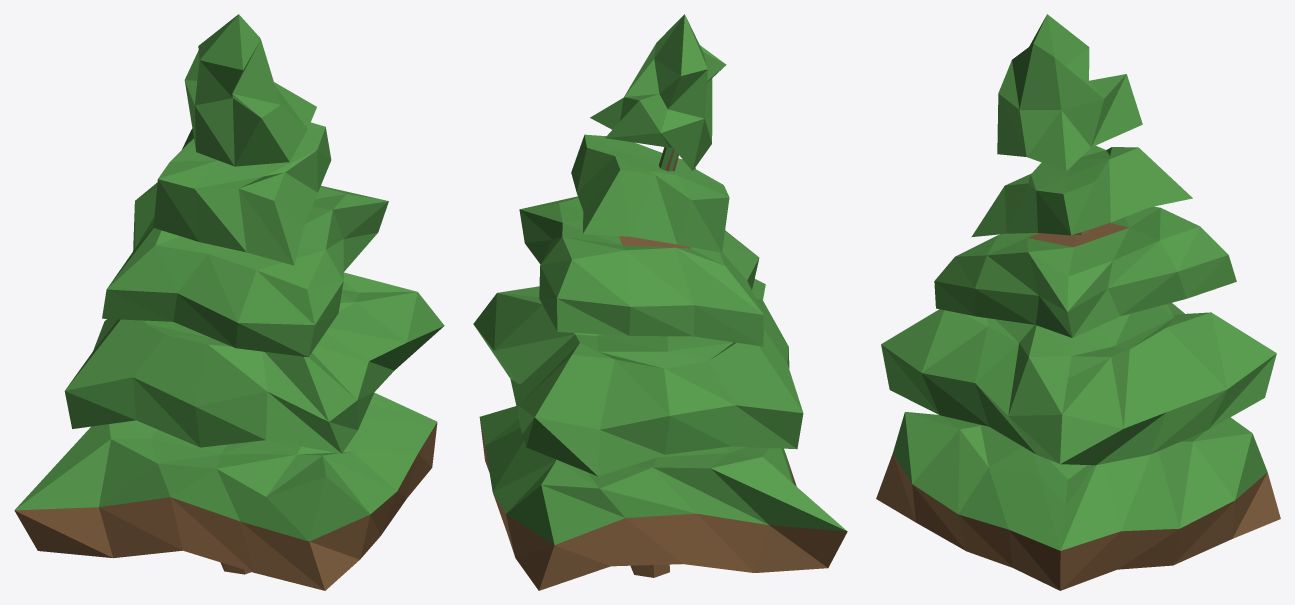
The model's file is tree3d-090.glb.
The picture shows the model from 3 angles, left to right: view 1: azimuth 30°, elevation 25°; view 2: azimuth 150°, elevation 25°; view 3: azimuth 270°, elevation 25°; orthographic projection. The views are drawn at different scales.
Parts seen in each view (by area): view 1: tree3d-090; view 2: tree3d-090; view 3: tree3d-090.
Boxes of the visible parts, box(x1,y1,x2,y2) form: tree3d-090: box(14, 14, 444, 590); tree3d-090: box(473, 14, 847, 590); tree3d-090: box(876, 14, 1280, 590).
Size of the model in its own units: 0.7539 by 1 by 0.6775.
